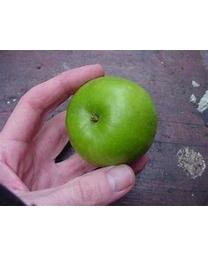apple: (66, 76, 158, 167)
